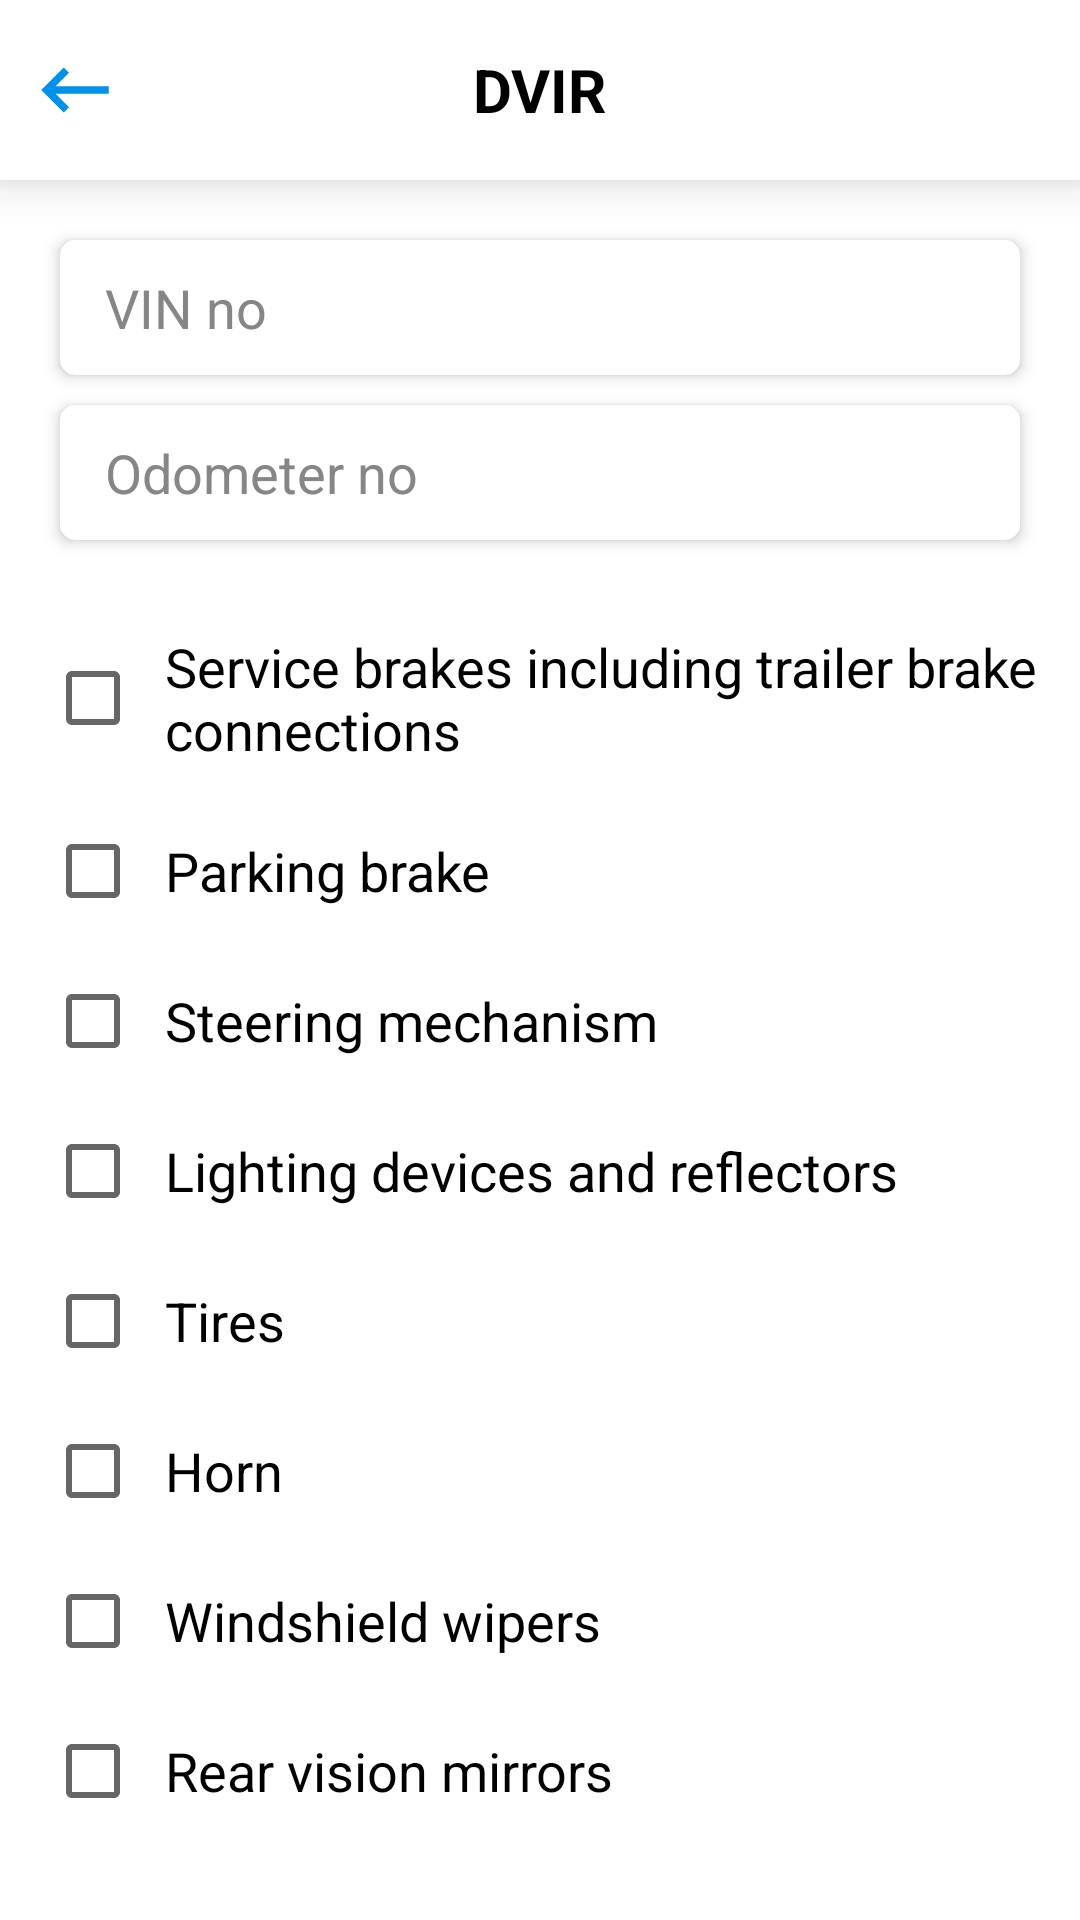

Icon bounding boxes for this 1080x1920 phone screenshot, format (x1, y1, x2, y2):
keyboard backspace: (41, 67, 109, 113)
